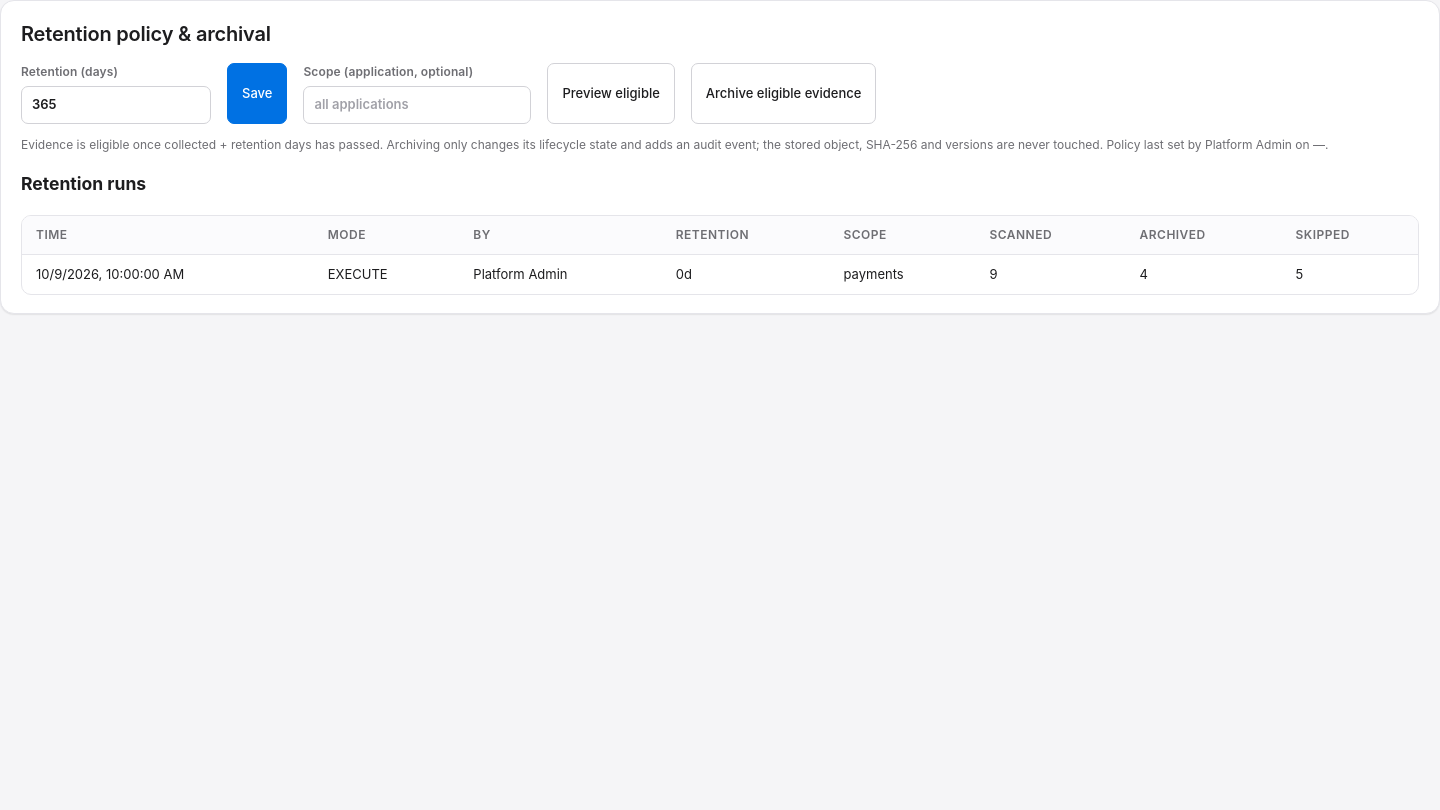
Scenario: RetentionPanel › lets Admin edit the policy, preview, confirm and archive, and shows the run history
expect the number field showing "365" is enabled: met, box left=21, top=86, right=211, bottom=124
expect the text "Platform Admin" is shown: met, box left=459, top=254, right=662, bottom=294
In the field named "Archival scope": (417, 105) left=303, top=86, right=531, bottom=124, type "payments"
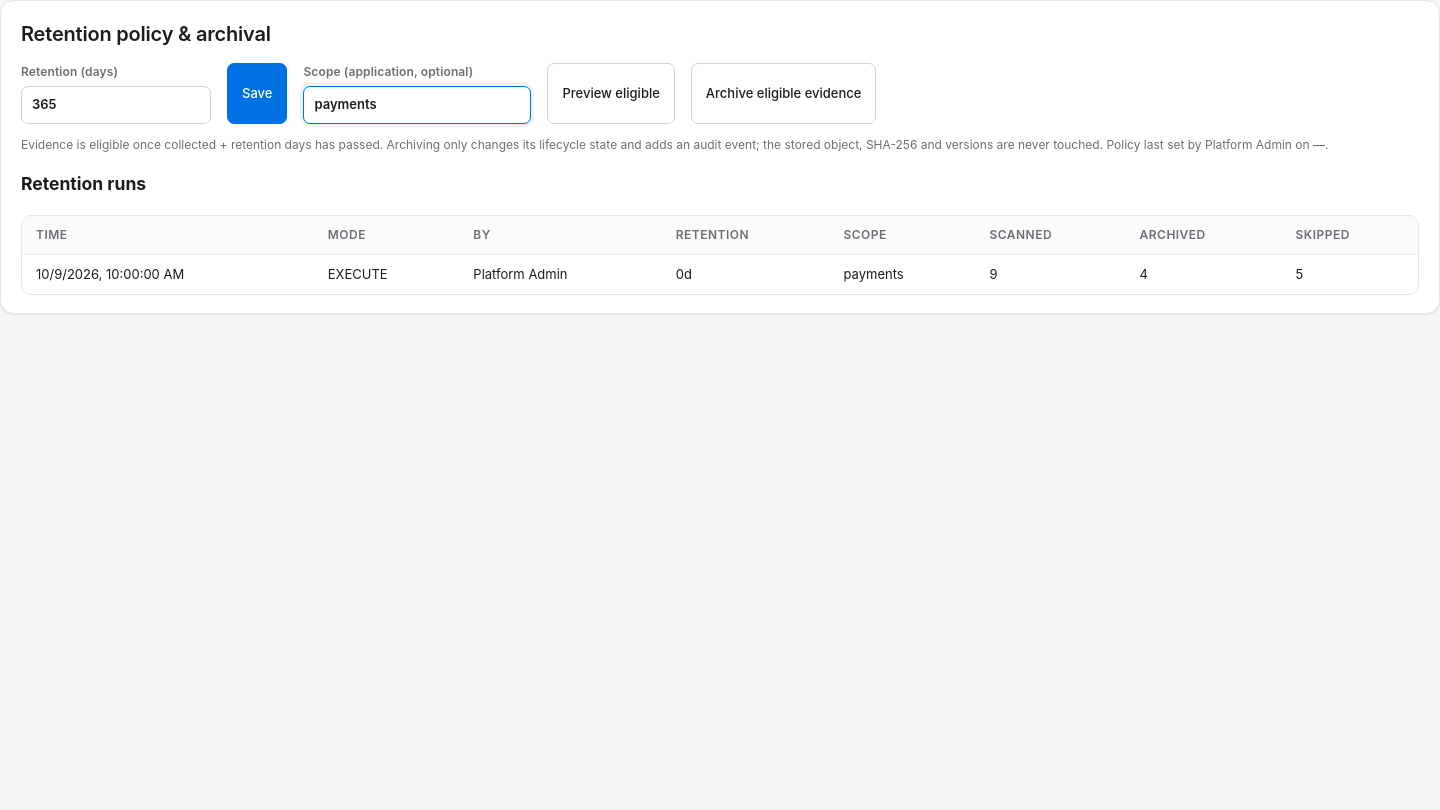
Click the button "Preview eligible": (611, 93) left=547, top=63, right=675, bottom=124
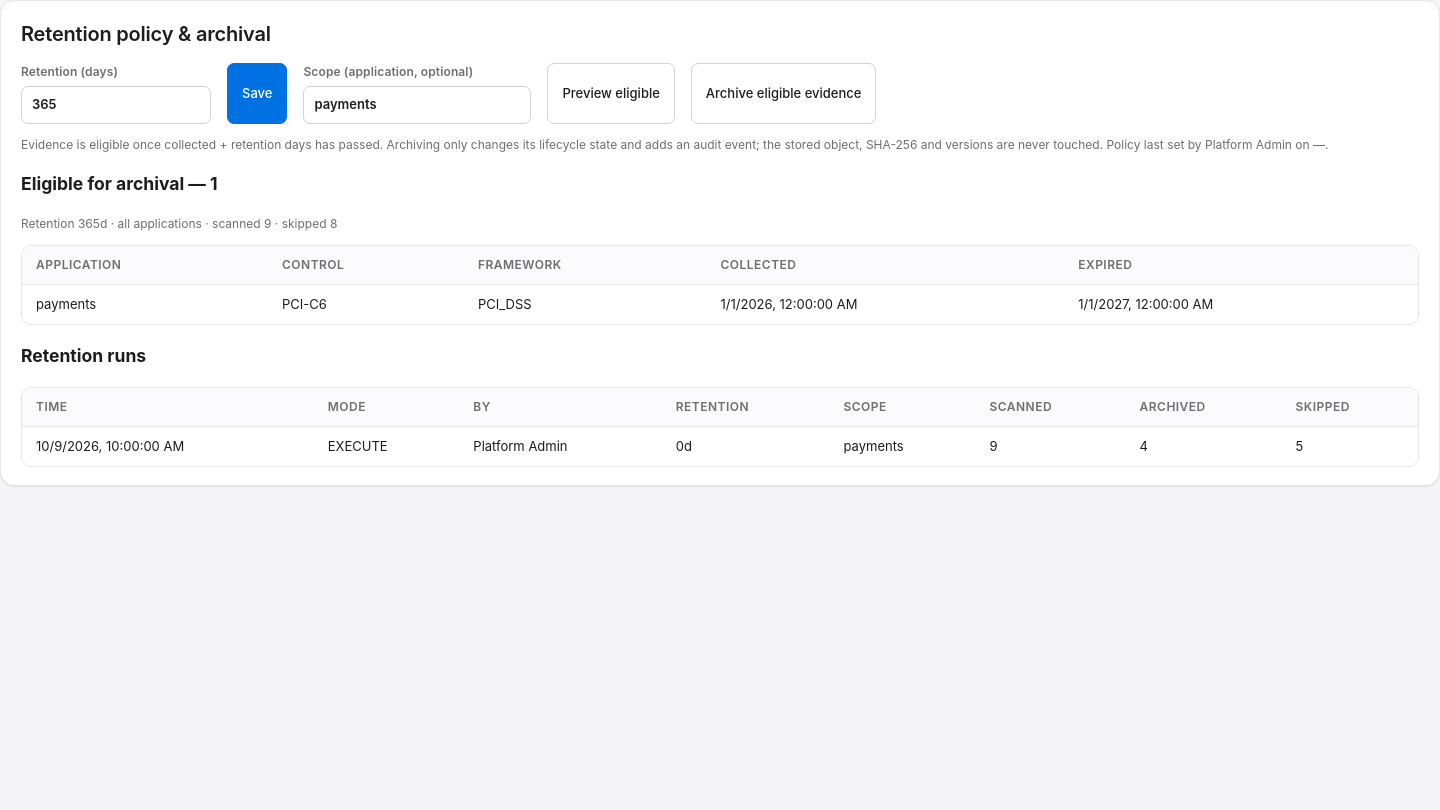
expect the text "PCI-C6" is shown: met, box left=268, top=284, right=464, bottom=324
Click the button "Archive eligible evidence": (784, 93) left=691, top=63, right=876, bottom=124
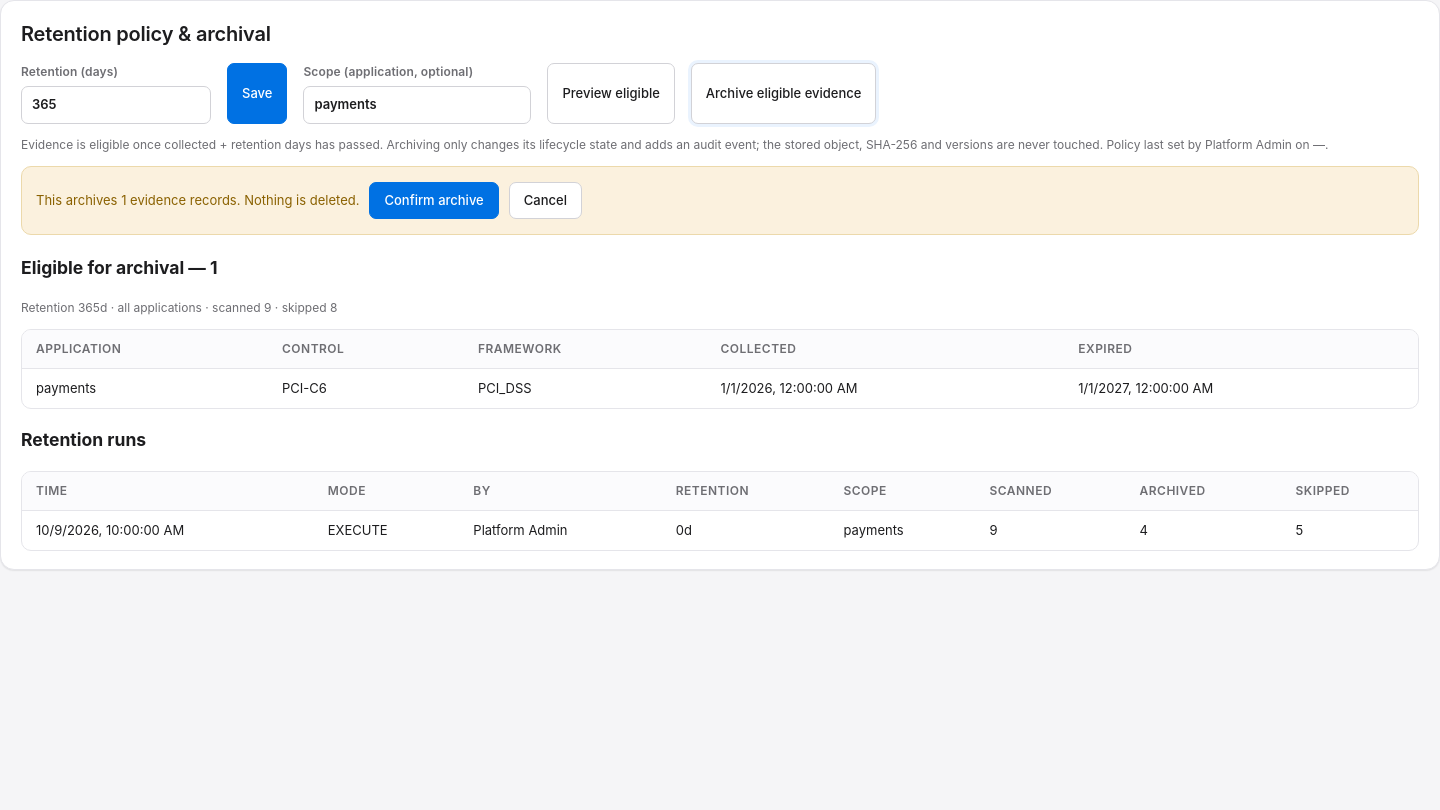
expect the dialog shows "This archives 1 evidence records. Nothing is deleted.": met, box left=21, top=166, right=1419, bottom=235
Click the button "Confirm archive": (434, 200) left=370, top=182, right=499, bottom=219
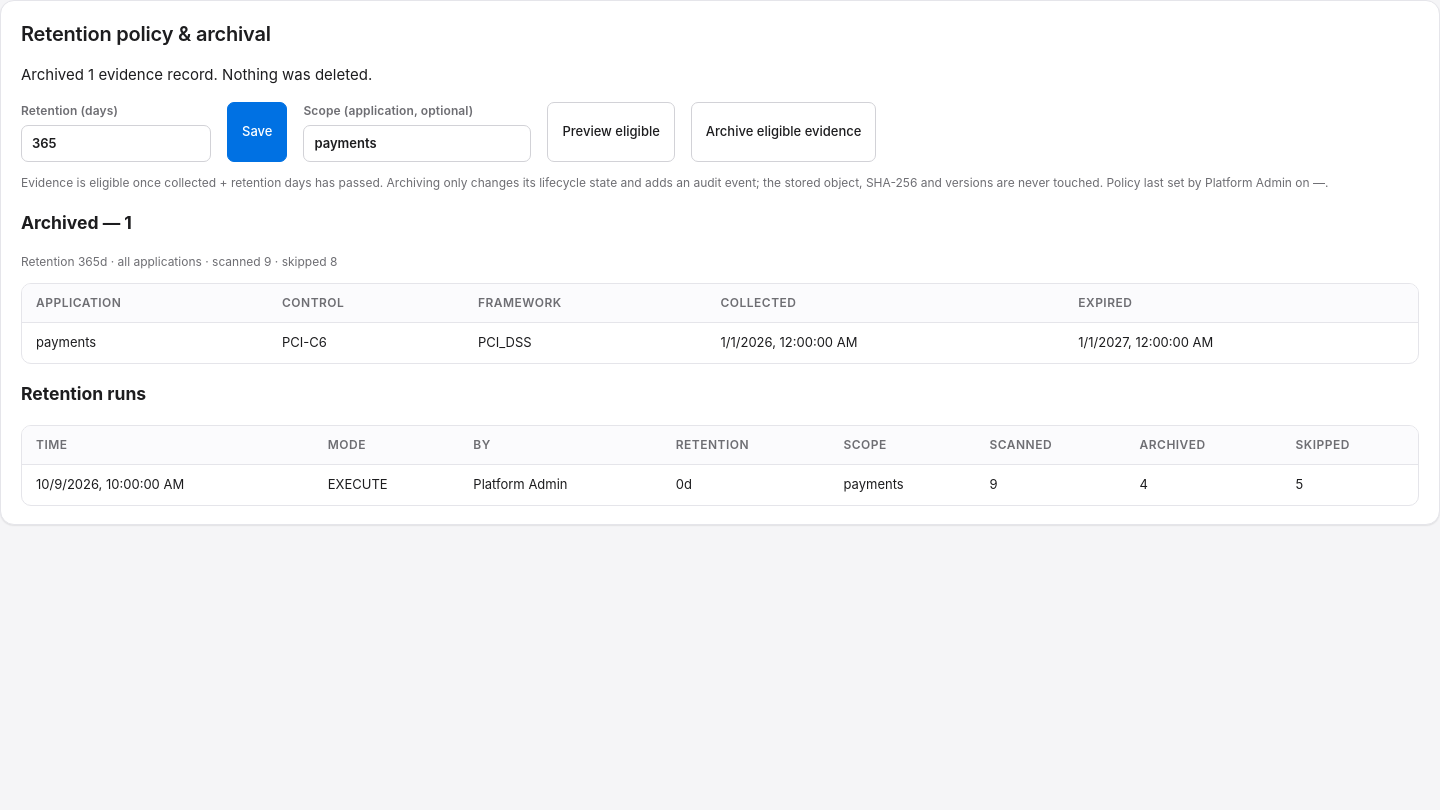
expect the text "EXECUTE" is shown: met, box left=314, top=465, right=459, bottom=505
expect the message reads "Archived 1 evidence record. Nothing was deleted.": met, box left=21, top=65, right=372, bottom=84
